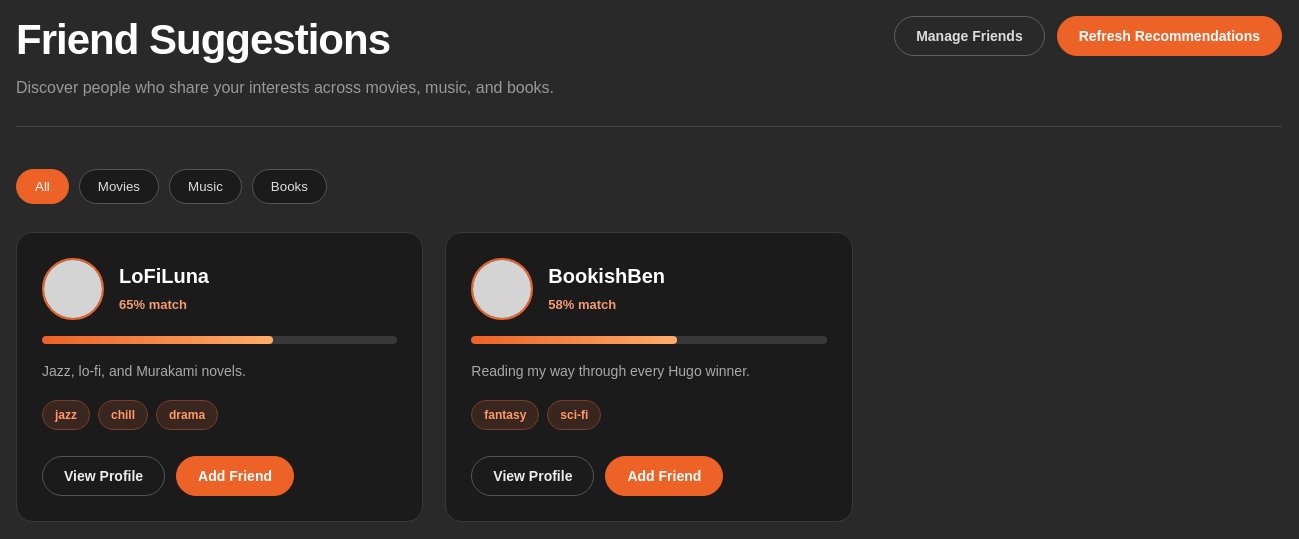
FriendSuggestionsPage › filters recommendations by media category
Click the button "Music". click: (205, 187)
box: [169, 169, 242, 204]
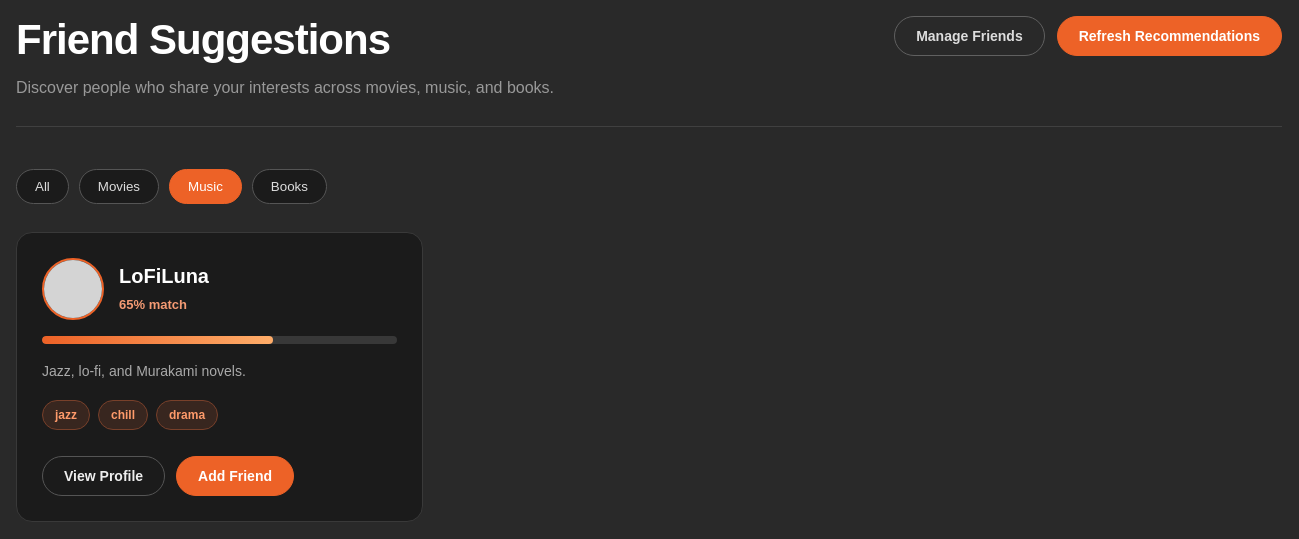
Expected: the heading "LoFiLuna" is shown, [119, 265, 209, 288]
Result: the heading "BookishBen" is gone
Click the button "Movies". click: (119, 187)
box: [79, 169, 159, 204]
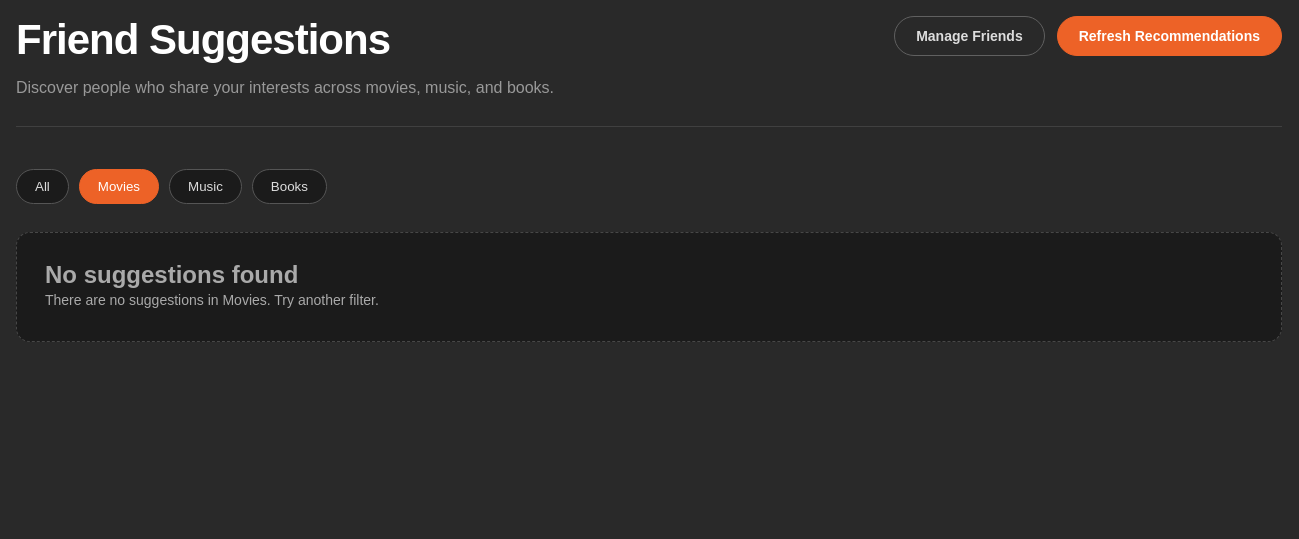
Result: the heading "No suggestions found" is shown at [45, 261, 298, 288]
Click the button "All". click: (42, 187)
box: [16, 169, 69, 204]
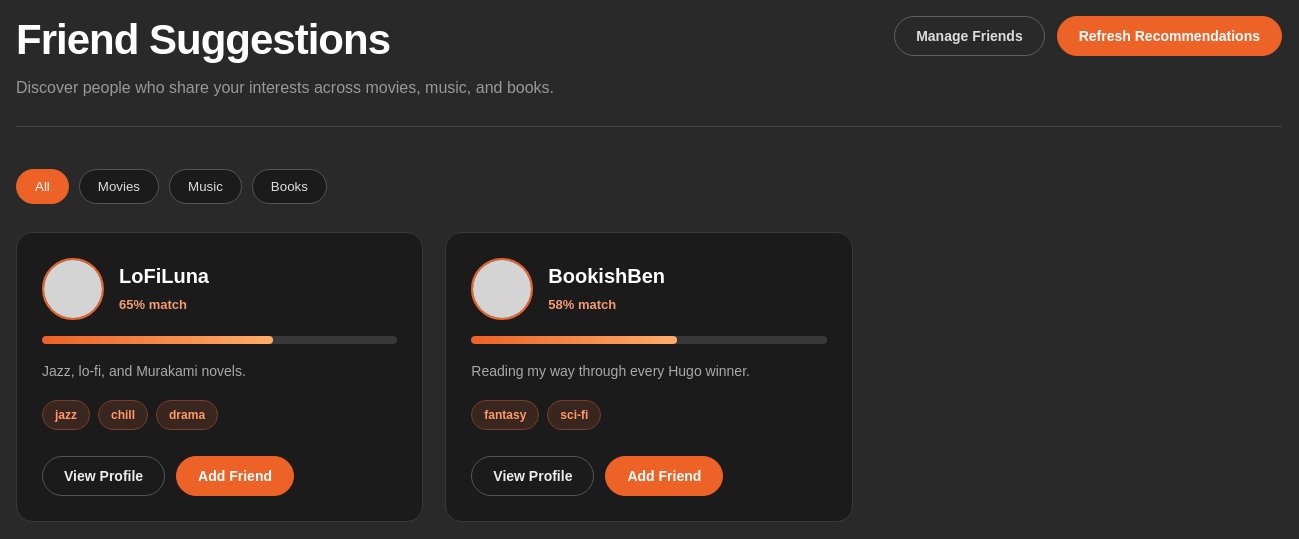
Result: the heading "BookishBen" is shown at [548, 265, 665, 288]
